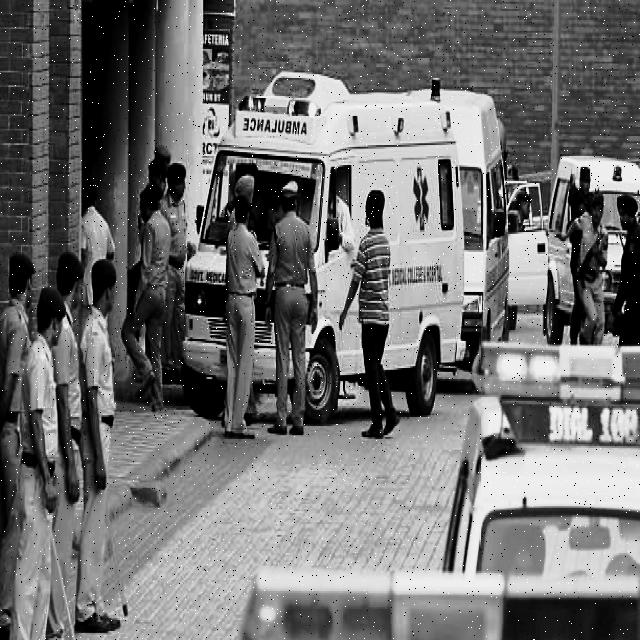Ambulance: (468, 322, 640, 402), (233, 86, 319, 157), (223, 133, 321, 184), (391, 256, 450, 302), (405, 161, 435, 241), (477, 230, 509, 294), (455, 159, 481, 191), (424, 77, 444, 104)
